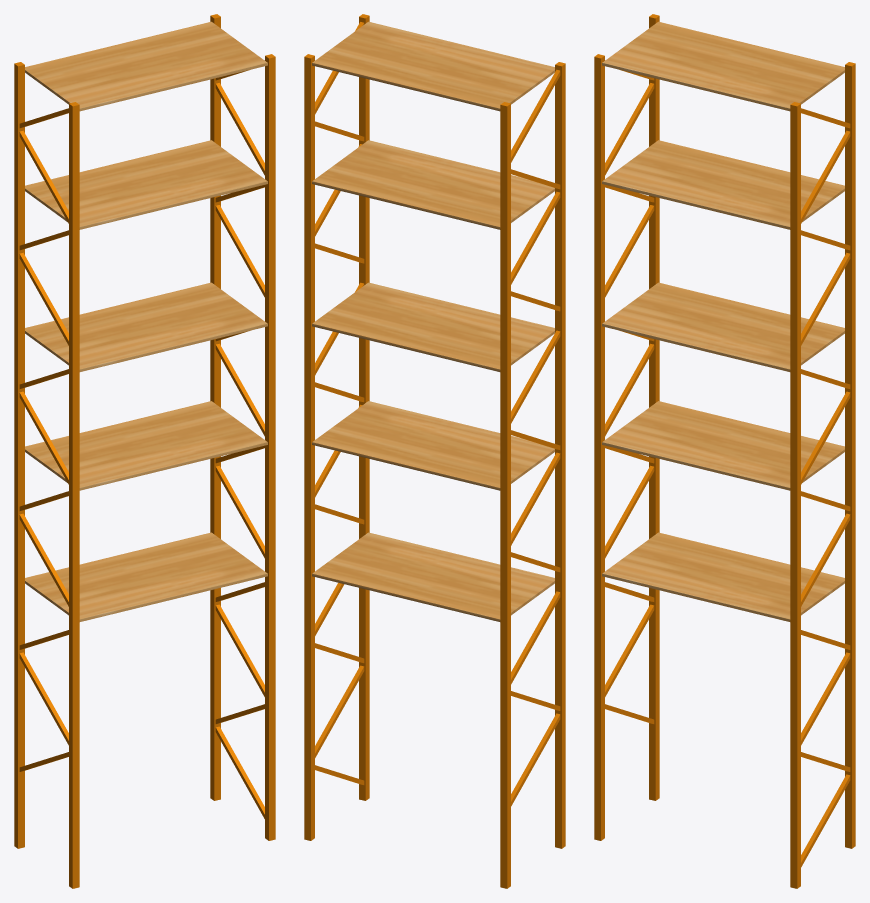
Rendered from Industrial_Rack_02.fbx.
3 renders of one model, left to right at view 1: azimuth 30°, elevation 25°; view 2: azimuth 150°, elevation 25°; view 3: azimuth 330°, elevation 25°, orthographic.
Visible parts, largest first — view 1: Industrial_Rack_02; view 2: Industrial_Rack_02; view 3: Industrial_Rack_02.
Part boxes in pixels (x1,y1,x2,y2): Industrial_Rack_02: (14, 14, 275, 888); Industrial_Rack_02: (304, 14, 565, 888); Industrial_Rack_02: (594, 14, 855, 888).
Bounding box in the file's own units: 2 × 7.37 × 1.
